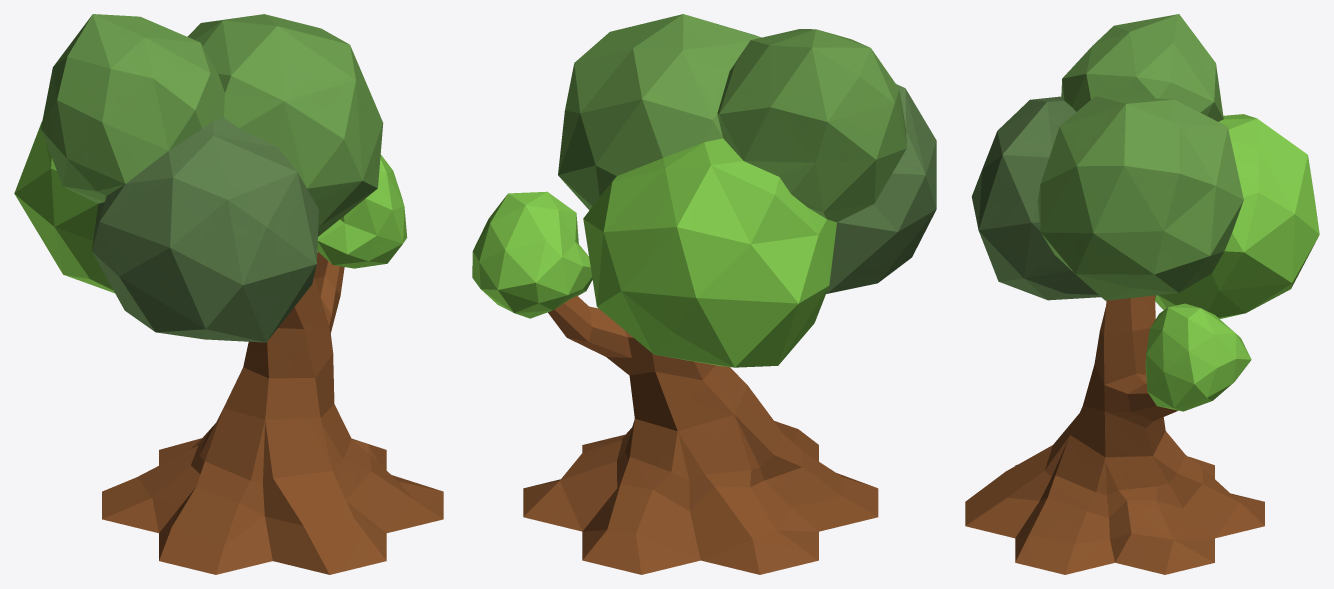
Rendered from Arbre_TEST.FBX.
The picture shows the model from 3 angles, left to right: view 1: azimuth 30°, elevation 25°; view 2: azimuth 150°, elevation 25°; view 3: azimuth 270°, elevation 25°; orthographic projection. The views are drawn at different scales.
Visible parts, largest first — view 1: Arbre_TEST; view 2: Arbre_TEST; view 3: Arbre_TEST.
Part boxes in pixels (box(x1,y1,x2,y2)): Arbre_TEST: box(14, 14, 443, 574); Arbre_TEST: box(472, 14, 936, 574); Arbre_TEST: box(965, 14, 1319, 574).
Size of the model in its own units: 3.3 by 4.19 by 3.07.
